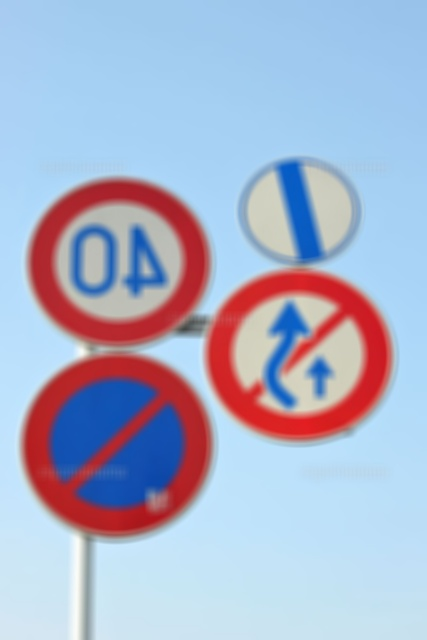Prohibition_sign: (17, 352, 223, 556), (197, 267, 410, 462)
